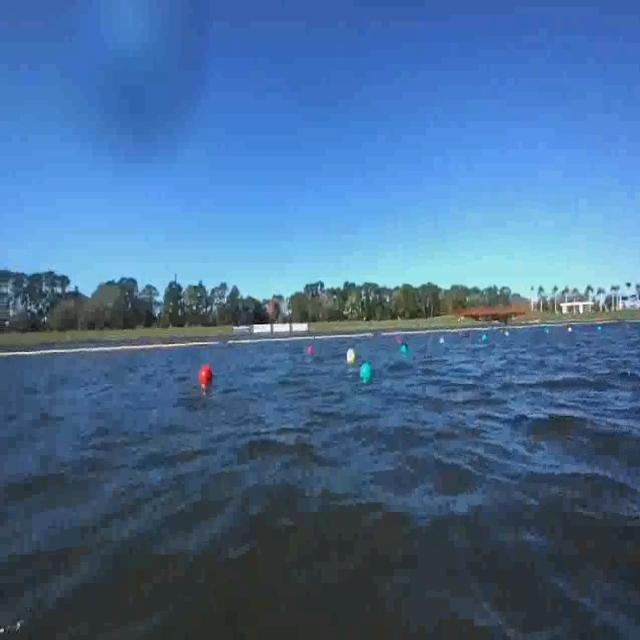green-buoy: (360, 360, 372, 380), (399, 344, 407, 356)
red-buoy: (200, 365, 213, 383)
yellow-buoy: (348, 348, 357, 364)
